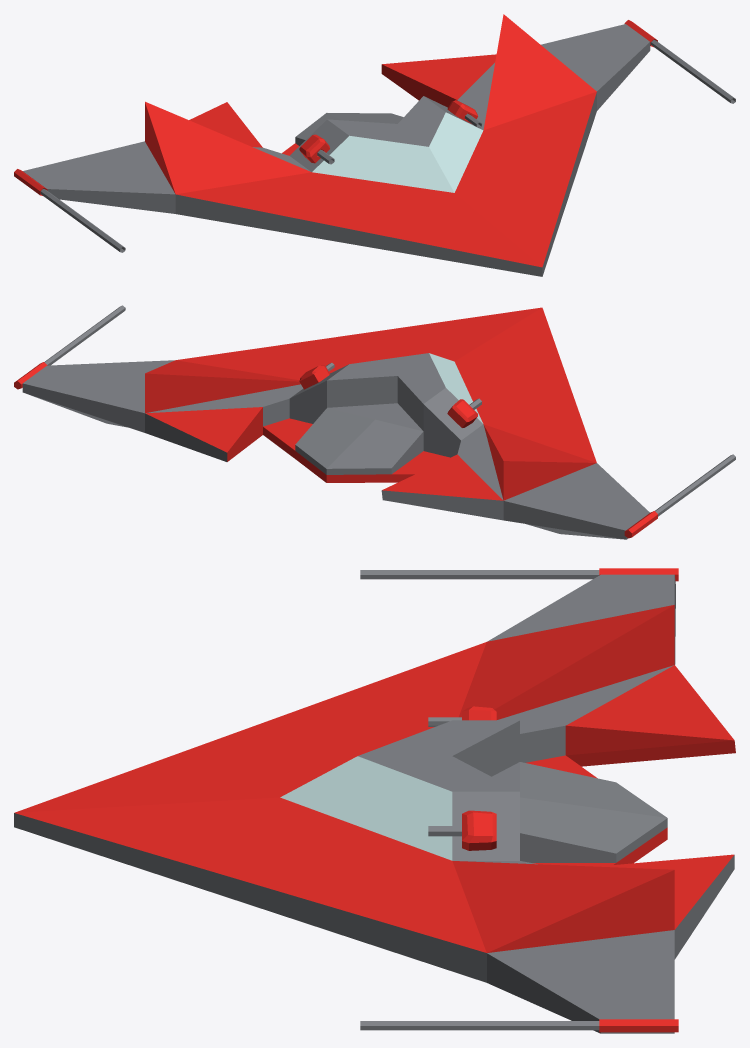
File: drone_8_1.gltf
3 views of the same model, one above another, from view 1: azimuth 30°, elevation 25°; view 2: azimuth 150°, elevation 25°; view 3: azimuth 270°, elevation 25° (orthographic). The views are drawn at different scales.
Parts seen in each view (by area): view 1: 8.001; view 2: 8.001; view 3: 8.001.
Boxes of the visible parts, bbox=[...] form: 8.001: bbox=[14, 14, 735, 276]; 8.001: bbox=[14, 305, 735, 539]; 8.001: bbox=[14, 568, 735, 1033].
Bounding box in the file's own units: 4.48 × 0.4692 × 2.99.
1 material, 1 textured.
